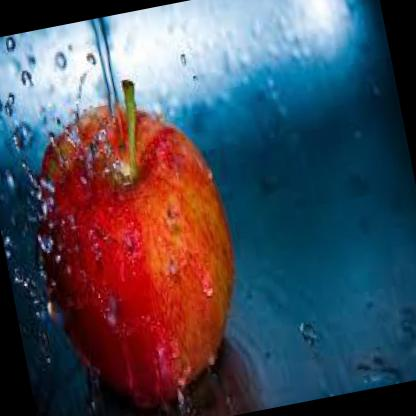apple: (7, 61, 265, 416)
